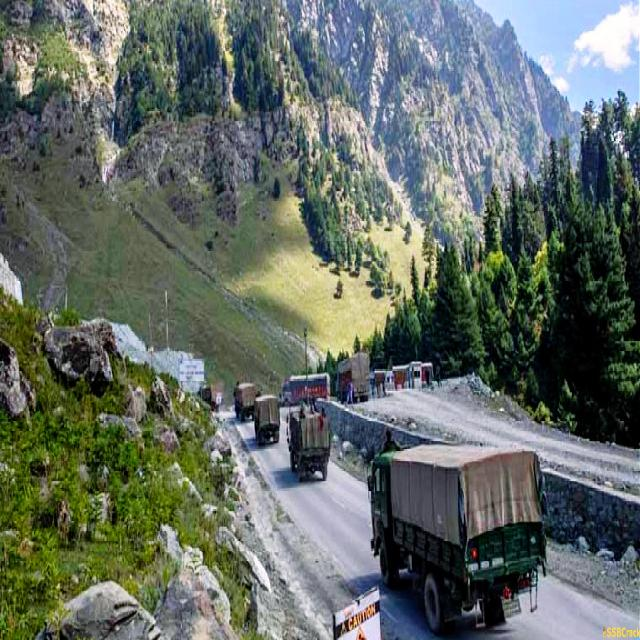truck: (368, 429, 545, 633), (289, 397, 330, 480), (280, 373, 330, 406), (338, 353, 370, 402), (254, 396, 280, 444), (234, 373, 258, 421), (392, 361, 424, 389), (370, 369, 394, 397)
